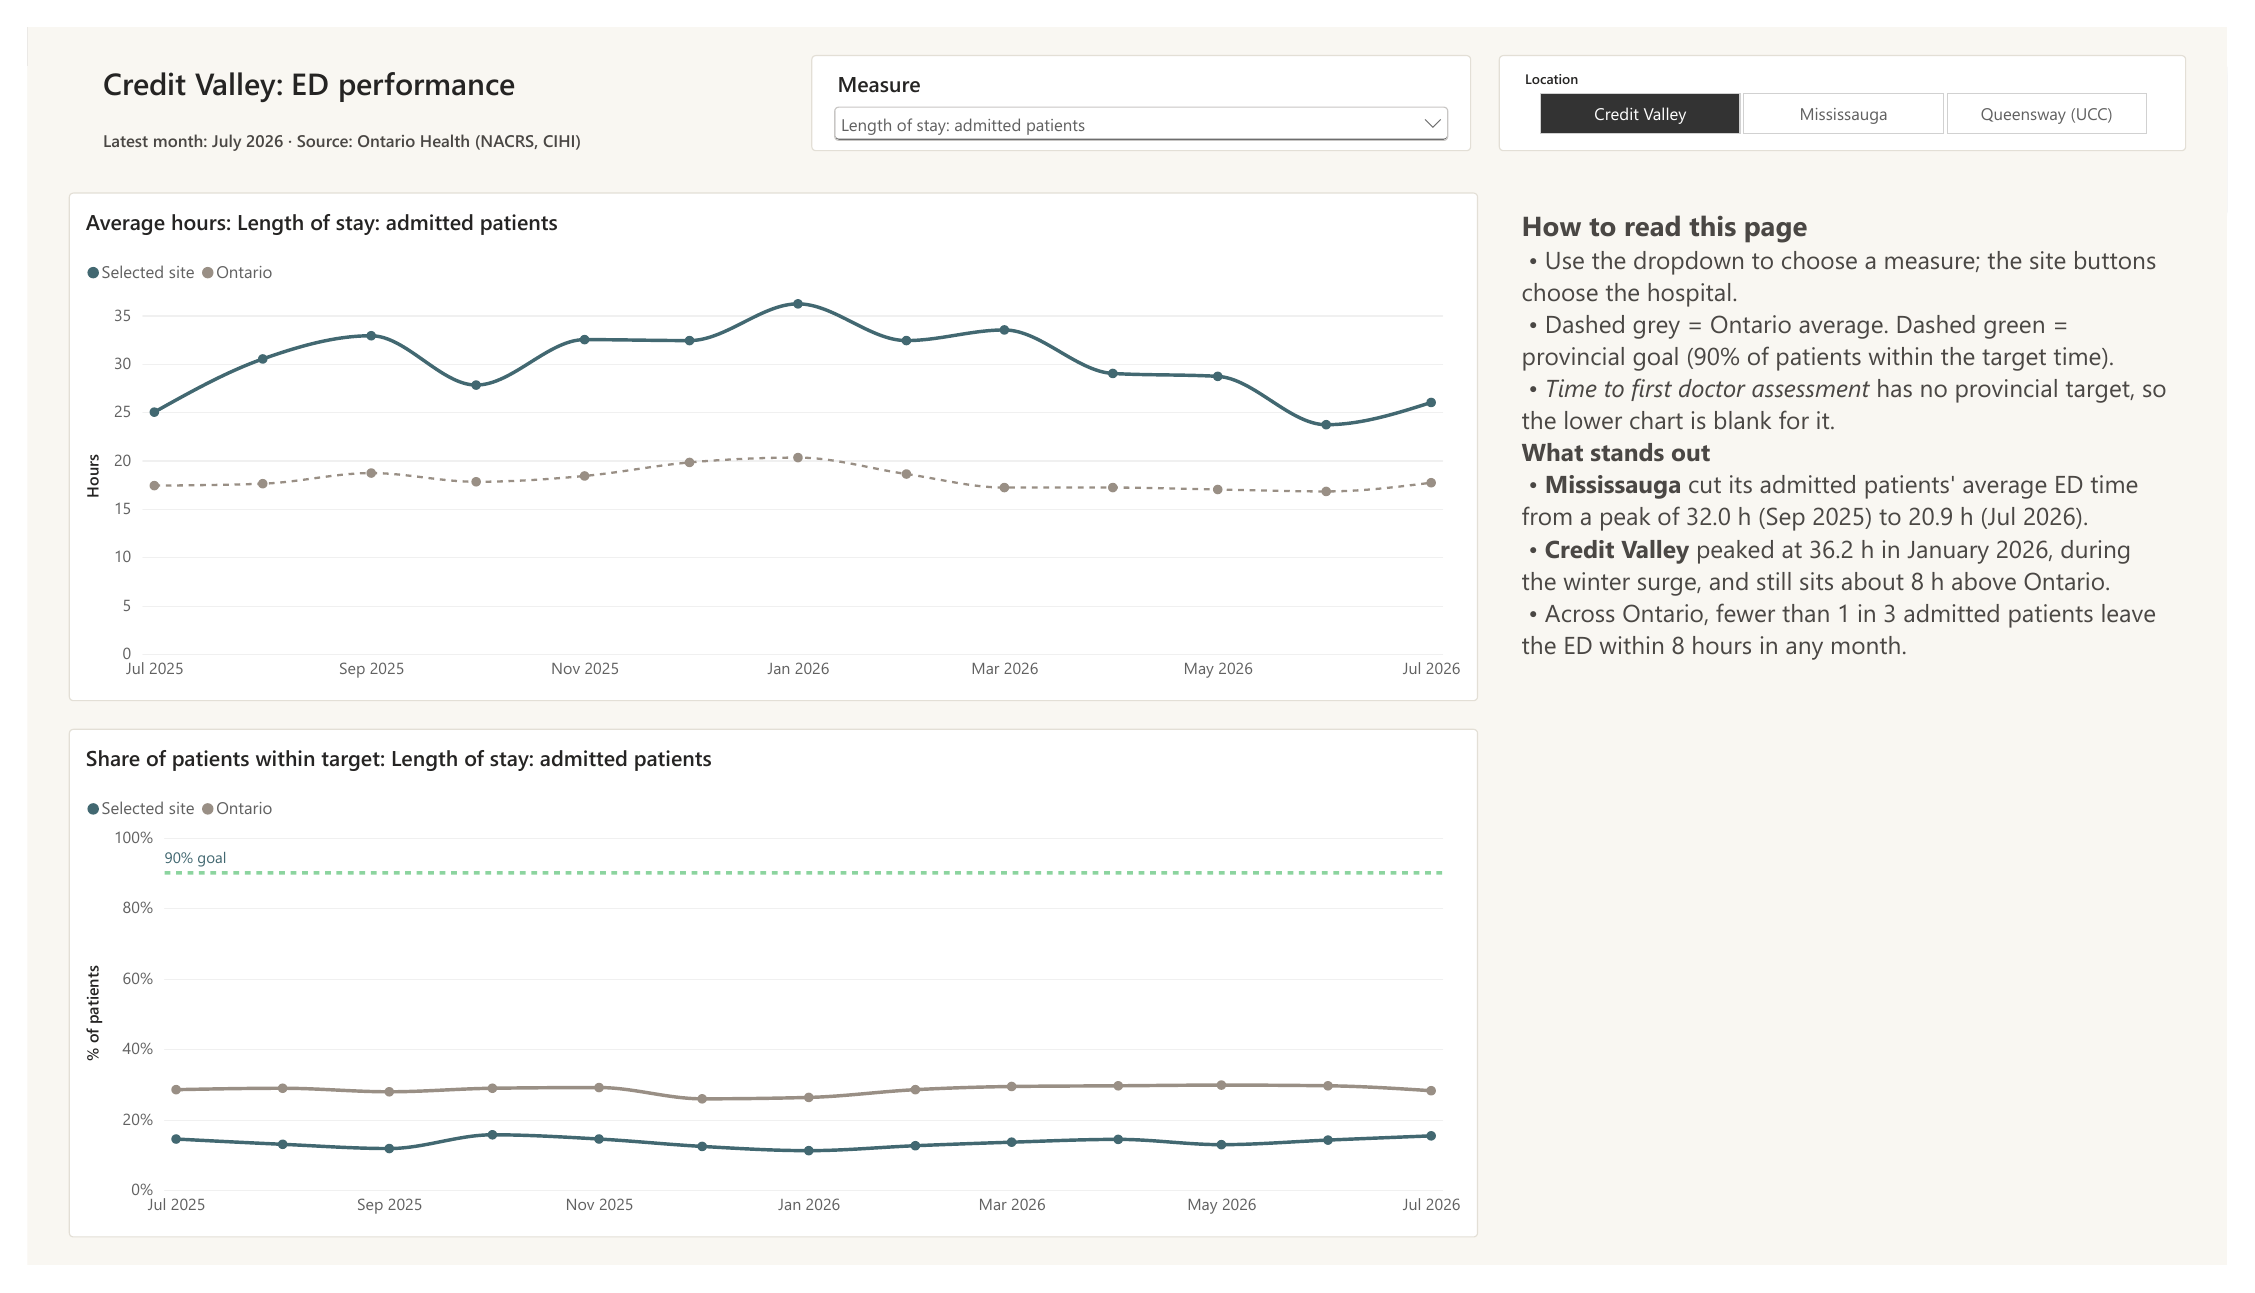

The page's visual inventory and layout, read from the dashboard file:
{"tool":"powerbi","page":{"name":"Trends","canvas":[1920,1080],"ordinal":1},"visuals":[{"type":"slicer","fields":{"Values":["Measure_Info.Measure_Label"]},"box":[684,24,576,84],"z":0},{"type":"cardVisual","fields":{"Data":["_Measures.Site Title"]},"box":[36,18,630,60],"z":1000},{"type":"cardVisual","fields":{"Data":["_Measures.Page Subtitle"]},"box":[36,78,630,42],"z":2000},{"type":"slicer","fields":{"Values":["ED_Trends.Location"]},"box":[1284,24,600,84],"z":3000},{"type":"lineChart","fields":{"Category":["ED_Trends.Date"],"Y":["_Measures.Avg Hours","_Measures.Ontario Avg Hours"]},"box":[36,144,1230,444],"z":4000},{"type":"lineChart","fields":{"Category":["ED_Trends.Date"],"Y":["_Measures.Pct Within Target","_Measures.Ontario Pct Within Target"]},"box":[36,612,1230,444],"z":5000},{"type":"textbox","box":[1290,144,594,912],"z":6000}]}

Visuals, with their boxes in screenshot pixels (x1, y1, x2, y2), scaled from the page's 1920x1080 canvas onto the 2255x1293 screenshot:
slicer - Measure_Info.Measure_Label: <box>803,29,1480,129</box>
cardVisual - _Measures.Site Title: <box>42,22,782,93</box>
cardVisual - _Measures.Page Subtitle: <box>42,93,782,144</box>
slicer - ED_Trends.Location: <box>1508,29,2213,129</box>
lineChart - ED_Trends.Date x _Measures.Avg Hours: <box>42,172,1487,704</box>
lineChart - ED_Trends.Date x _Measures.Pct Within Target: <box>42,733,1487,1264</box>
textbox: <box>1515,172,2213,1264</box>
